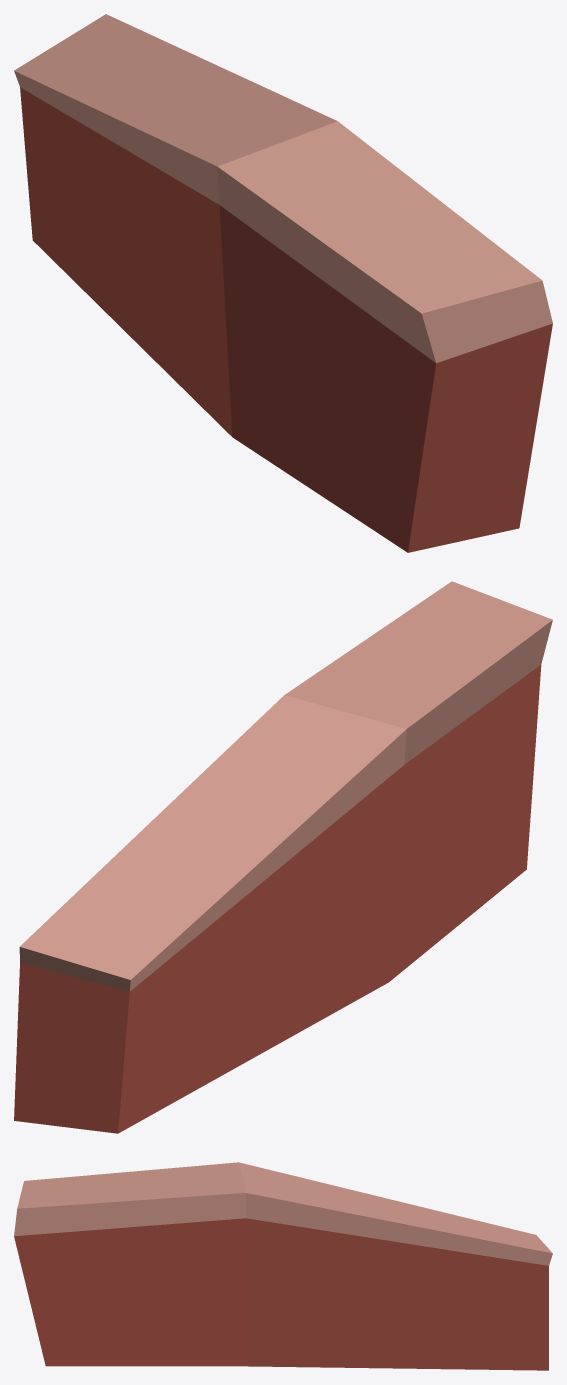
File: picanhaCut02.fbx
The picture shows the model from 3 angles, top to bottom: view 1: azimuth 30°, elevation 25°; view 2: azimuth 150°, elevation 25°; view 3: azimuth 270°, elevation 25°; orthographic projection. The views are drawn at different scales.
Visible parts, largest first — view 1: picanhaCut02; view 2: picanhaCut02; view 3: picanhaCut02.
Part boxes in pixels (bbox=[...]): picanhaCut02: bbox=[14, 14, 552, 552]; picanhaCut02: bbox=[14, 581, 552, 1133]; picanhaCut02: bbox=[14, 1162, 552, 1370].
Bounding box in the file's own units: 5.65 × 9.49 × 27.29.
Materials: 1 (1 with a texture image).
